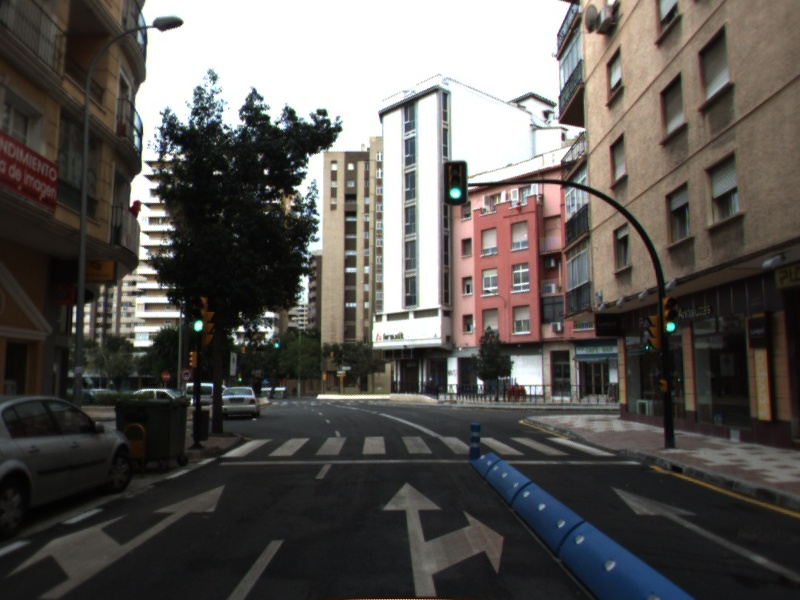STRAIGHT: (608, 481, 800, 584)
STRAIGHT_LEFT: (4, 480, 230, 600)
STRAIGHT_RIGHT: (377, 477, 508, 600)
